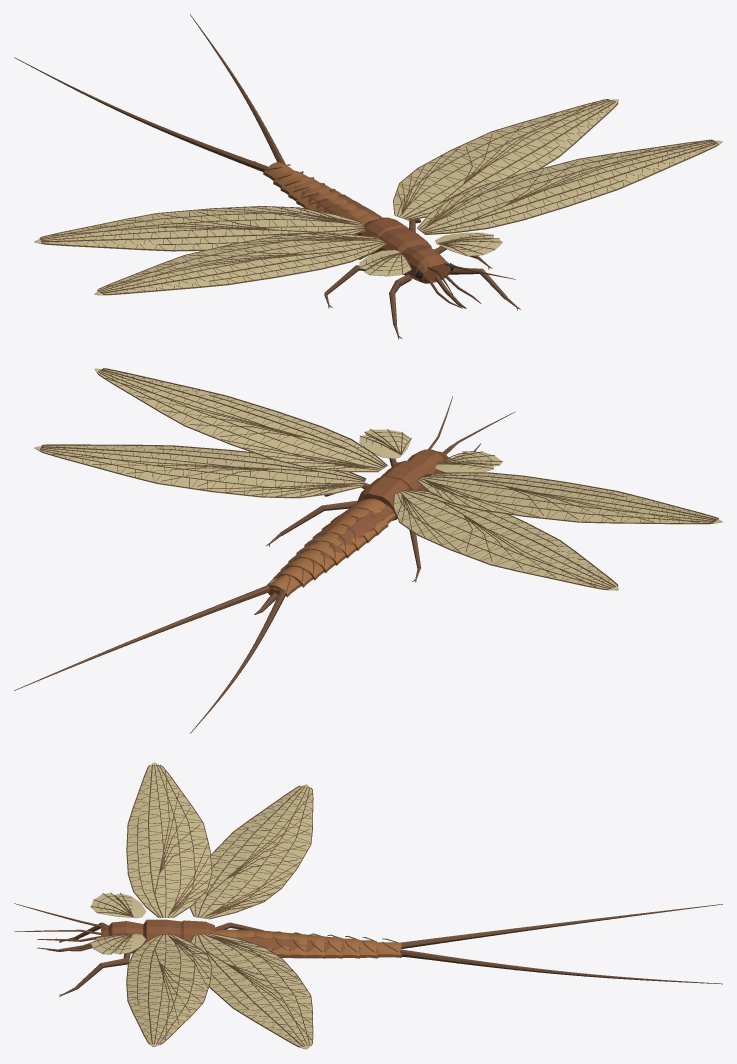
The picture shows the model from 3 angles, top to bottom: view 1: azimuth 30°, elevation 25°; view 2: azimuth 150°, elevation 25°; view 3: azimuth 270°, elevation 25°; orthographic projection. The views are drawn at different scales.
Parts seen in each view (by area): view 1: Four-flight-wings-and-two-prothoracic-lobes, Simplified-wing-venation-and-body-ridges, Six-legs-mouthparts-antennae-and-female-tail, Head-and-three-thoracic-segments, Abdomen-ten-overlapping-tergites; view 2: Four-flight-wings-and-two-prothoracic-lobes, Simplified-wing-venation-and-body-ridges, Head-and-three-thoracic-segments, Abdomen-ten-overlapping-tergites, Six-legs-mouthparts-antennae-and-female-tail; view 3: Four-flight-wings-and-two-prothoracic-lobes, Simplified-wing-venation-and-body-ridges, Six-legs-mouthparts-antennae-and-female-tail, Head-and-three-thoracic-segments, Abdomen-ten-overlapping-tergites.
Boxes of the visible parts, bbox=[...] form: Four-flight-wings-and-two-prothoracic-lobes: bbox=[34, 99, 722, 295]; Simplified-wing-venation-and-body-ridges: bbox=[39, 57, 718, 295]; Six-legs-mouthparts-antennae-and-female-tail: bbox=[14, 14, 520, 339]; Head-and-three-thoracic-segments: bbox=[287, 181, 450, 283]; Abdomen-ten-overlapping-tergites: bbox=[263, 162, 382, 224]; Four-flight-wings-and-two-prothoracic-lobes: bbox=[34, 368, 722, 590]; Simplified-wing-venation-and-body-ridges: bbox=[39, 368, 718, 696]; Head-and-three-thoracic-segments: bbox=[268, 449, 448, 595]; Abdomen-ten-overlapping-tergites: bbox=[268, 498, 395, 597]; Six-legs-mouthparts-antennae-and-female-tail: bbox=[14, 396, 515, 733]; Four-flight-wings-and-two-prothoracic-lobes: bbox=[90, 762, 312, 1049]; Simplified-wing-venation-and-body-ridges: bbox=[90, 764, 631, 1047]; Six-legs-mouthparts-antennae-and-female-tail: bbox=[14, 903, 722, 996]; Head-and-three-thoracic-segments: bbox=[101, 919, 392, 958]; Abdomen-ten-overlapping-tergites: bbox=[215, 929, 401, 958].
Size of the model in its own units: 0.1405 by 0.015 by 0.1481.
